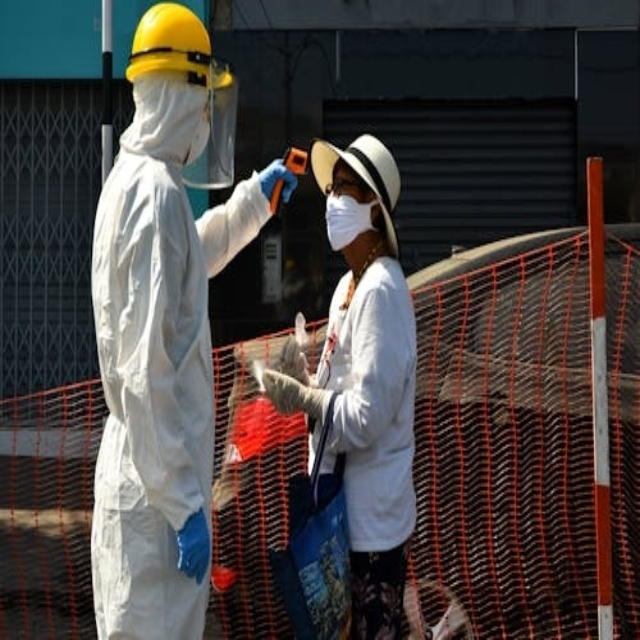Guantes: (259, 364, 321, 418), (176, 506, 210, 583), (258, 159, 298, 208), (278, 330, 312, 385)
Mascara: (325, 188, 381, 253), (180, 100, 214, 169)
